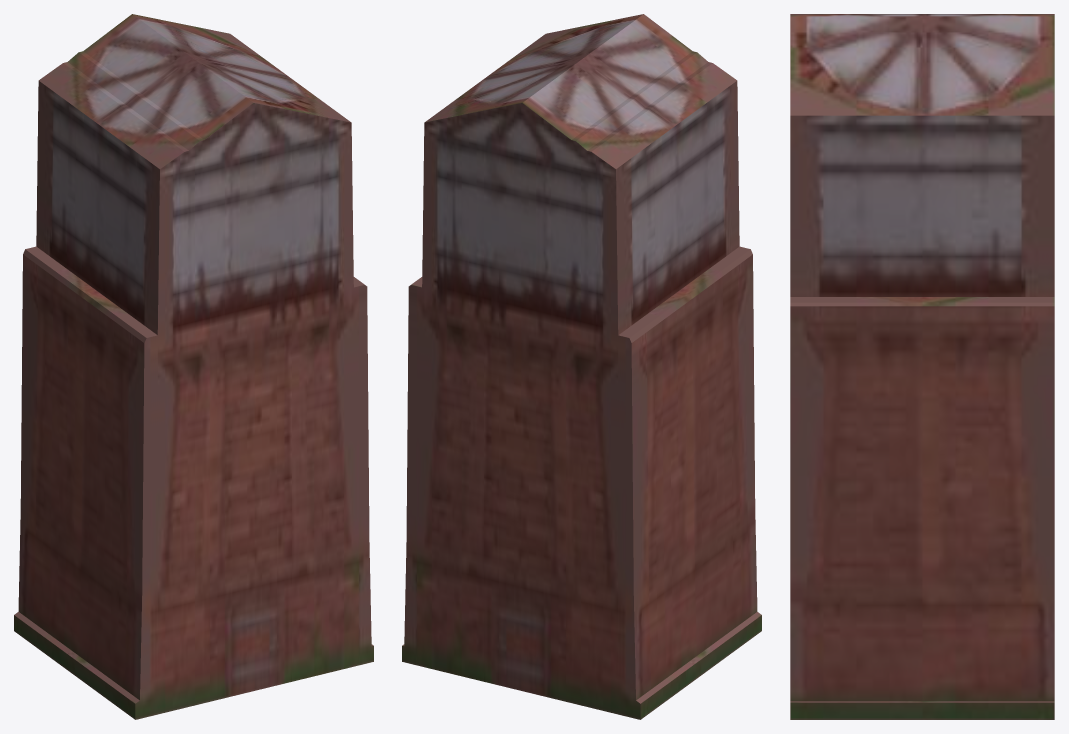
File: bg_city_water_tower_1_lod1.glb
3 views of the same model, side by side, from view 1: azimuth 30°, elevation 25°; view 2: azimuth 150°, elevation 25°; view 3: azimuth 270°, elevation 25° (orthographic). The views are drawn at different scales.
Parts seen in each view (by area): view 1: body; view 2: body; view 3: body.
Boxes of the visible parts, x1,y1,x2,y2 form: body: (14, 14, 373, 719); body: (402, 14, 761, 719); body: (790, 14, 1054, 719).
Size of the model in its own units: 4.67 by 11 by 4.11.
Materials: 1 (1 with a texture image).
